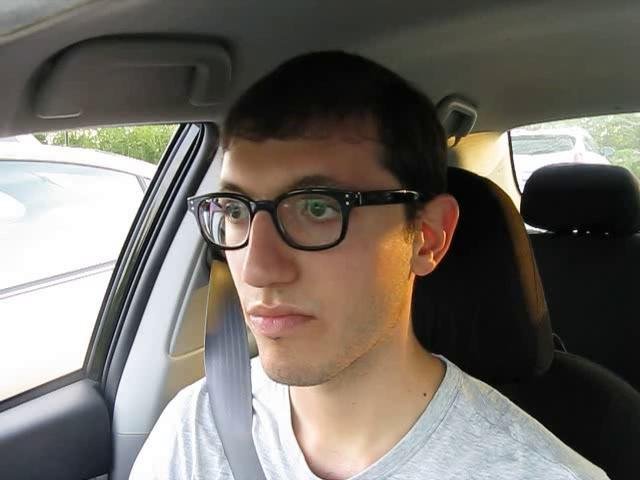no_yawn: (221, 291, 326, 345)
open_eyeL: (208, 191, 261, 233)
open_eyeR: (280, 186, 355, 240)
